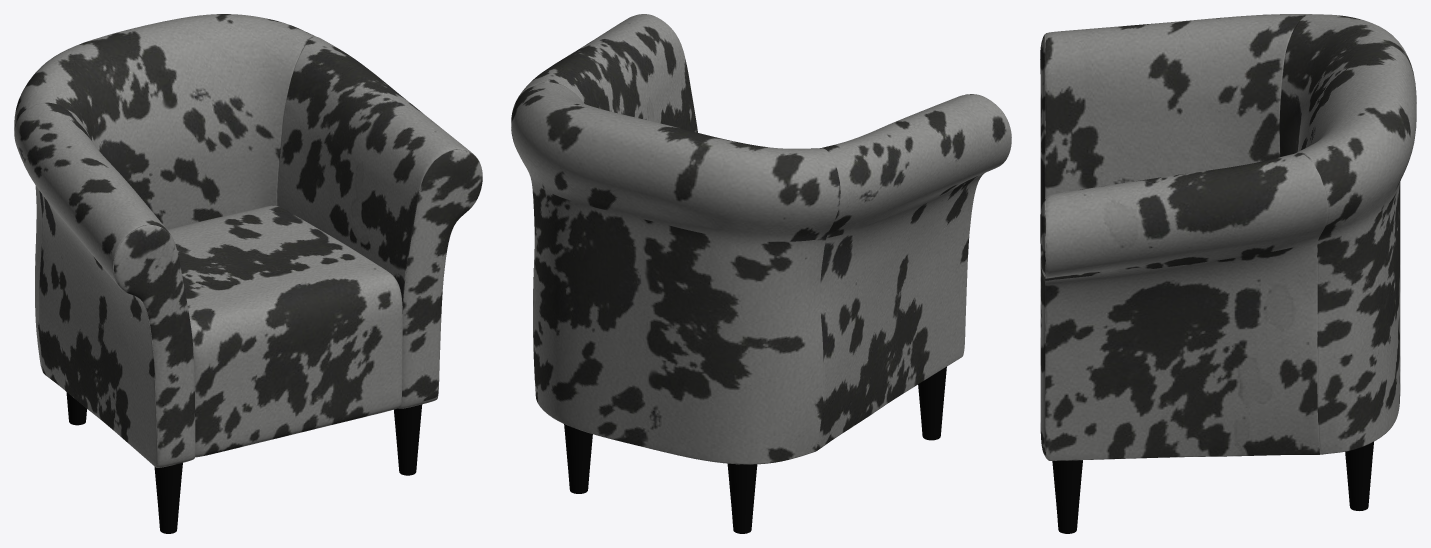
Rendered from LOON3749_v6_LOD2.obj.
The picture shows the model from 3 angles, left to right: view 1: azimuth 30°, elevation 25°; view 2: azimuth 150°, elevation 25°; view 3: azimuth 270°, elevation 25°; orthographic projection. The views are drawn at different scales.
Parts seen in each view (by area): view 1: not_clear_obj_0_v6, not_clear_obj_1_v6; view 2: not_clear_obj_0_v6, not_clear_obj_1_v6; view 3: not_clear_obj_0_v6, not_clear_obj_1_v6.
Part boxes in pixels (x1,y1,x2,y2): not_clear_obj_0_v6: (14,14,482,467); not_clear_obj_1_v6: (66,392,422,533); not_clear_obj_0_v6: (511,14,1011,464); not_clear_obj_1_v6: (564,367,946,533); not_clear_obj_0_v6: (1040,14,1416,460); not_clear_obj_1_v6: (1052,441,1373,533).
Size of what is drawn, in the model's own units: 87.07 by 82.44 by 70.77.
2 materials, 1 textured.
